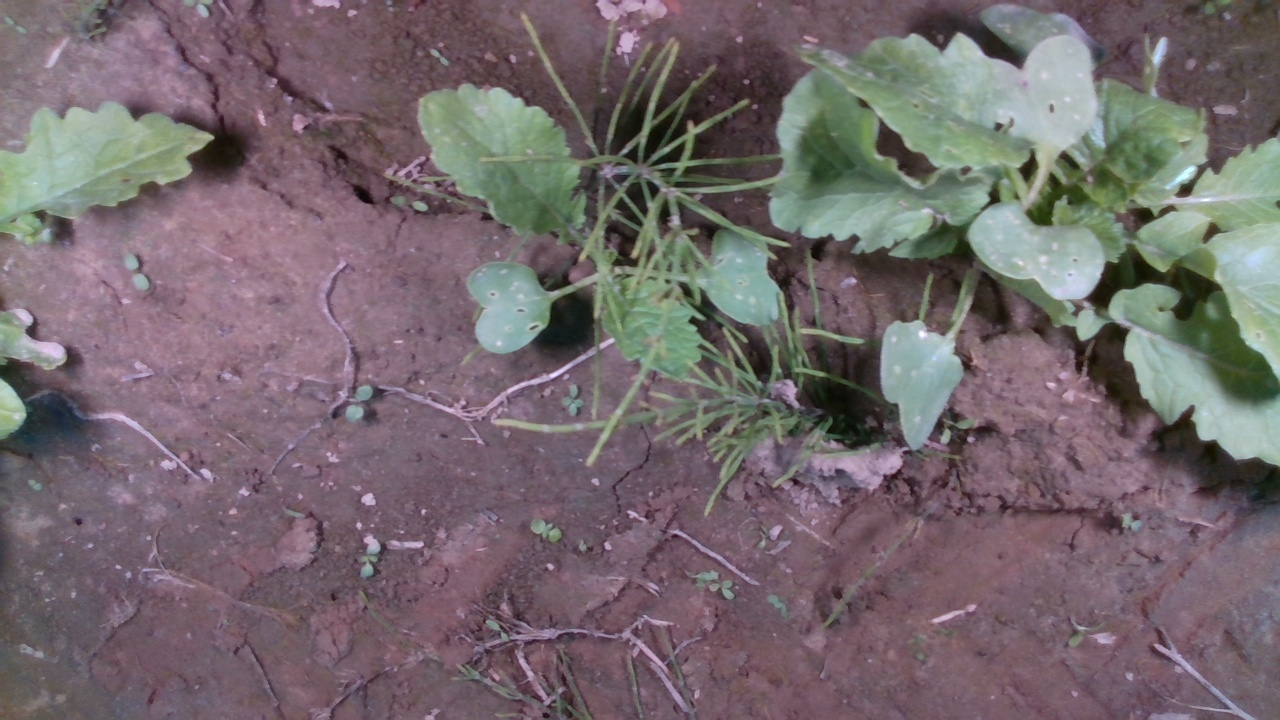weed: (343, 383, 374, 423), (122, 252, 150, 290), (356, 538, 382, 577), (527, 517, 562, 543), (561, 382, 584, 417)
